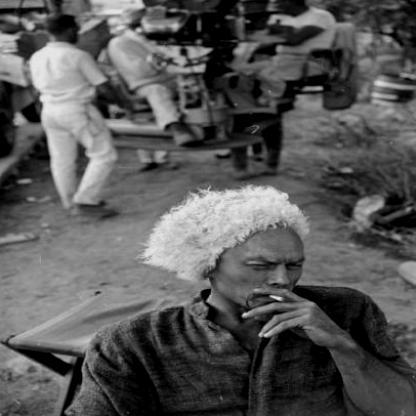cigarette: (266, 294, 286, 302)
person: (83, 192, 402, 416), (27, 13, 114, 218), (240, 0, 340, 120)
